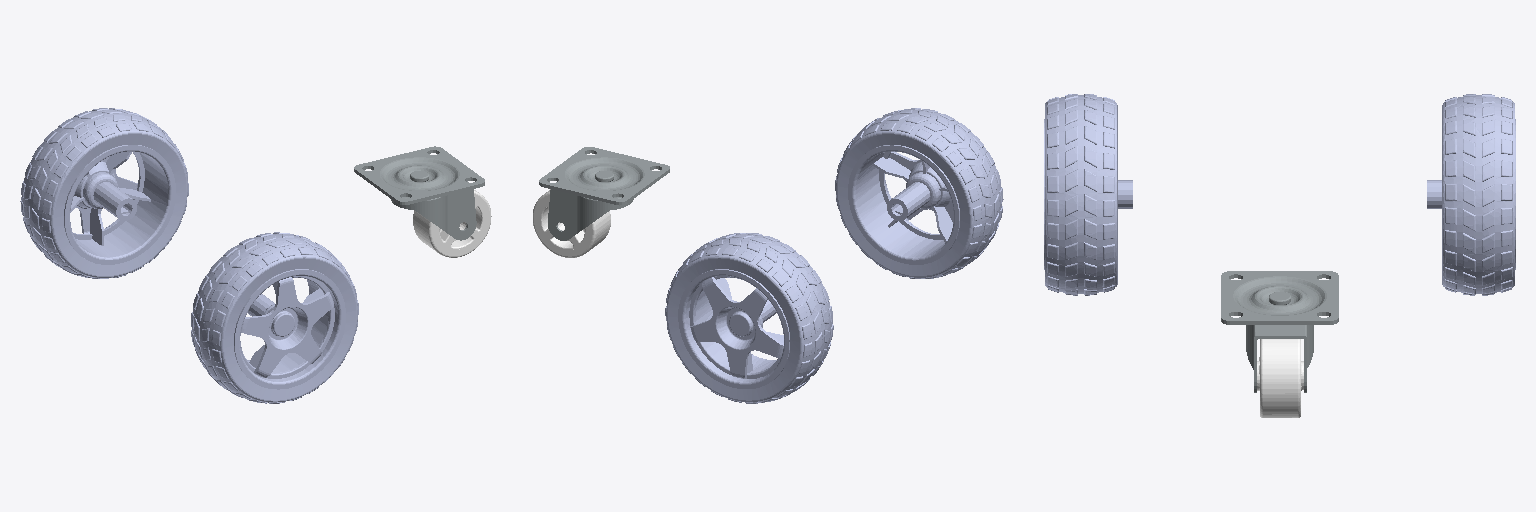
The robot description file, URDF, robot "line_robt_follower":
<?xml version="1.0" encoding="utf-8"?>
<!-- This URDF was automatically created by SolidWorks to URDF Exporter! Originally created by [author] ([email redacted]) 
     Commit Version: 1.6.0-1-g15f4949  Build Version: 1.6.7594.29634
     For more information, please see http://wiki.ros.org/sw_urdf_exporter -->
<robot  name="line_robt_follower">
  <link name="base_footprint" />

  <link
    name="chassis">
    <inertial>
      <origin
        xyz="-0.0073563 -3.9205E-16 -0.0071395"
        rpy="0 0 0" />
      <mass
        value="0.10052" />
      <inertia
        ixx="4.9396E-05"
        ixy="-1.1954E-19"
        ixz="1.3573E-21"
        iyy="0.00017682"
        iyz="1.8099E-14"
        izz="0.00022257" />
    </inertial>
    <visual>
      <origin
        xyz="0 0 0"
        rpy="0 0 0" />
      <geometry>
        <mesh
          filename="package://line_robt_follower/meshes/chassis.STL" scale="1 1 1" />
      </geometry>
      <material
        name="">
        <color
          rgba="1 1 1 0.3" />
      </material>
    </visual>
    <collision>
      <origin
        xyz="0 0 0"
        rpy="0 0 0" />
      <geometry>
        <mesh
          filename="package://line_robt_follower/meshes/chassis.STL" scale="1 1 1" />
      </geometry>
    </collision>
  </link>

  <joint name="base_joint" type="fixed">
    <origin xyz="0.0 0.0 0.0" rpy="0.0 0.0 0.0"/>
    <parent link="base_footprint"/>
    <child link="chassis"/>
    <axis xyz="0.0 0.0 0.0"/>
  </joint>

  <link
    name="left_wheel">
    <inertial>
      <origin
        xyz="2.2714E-09 -3.2445E-08 -0.0073729"
        rpy="0 0 0" />
      <mass
        value="0.021404" />
      <inertia
        ixx="8.6283E-06"
        ixy="-3.3802E-12"
        ixz="3.1432E-13"
        iyy="8.6269E-06"
        iyz="-9.8955E-12"
        izz="1.4515E-05" />
    </inertial>
    <visual>
      <origin
        xyz="0 0 0"
        rpy="0 0 0" />
      <geometry>
        <mesh
          filename="package://line_robt_follower/meshes/left_wheel.STL" scale="1 1 1" />
      </geometry>
      <material
        name="">
        <color
          rgba="0.79216 0.81961 0.93333 1" />
      </material>
    </visual>
    <collision>
      <origin
        xyz="0 0 0"
        rpy="0 0 0" />
      <geometry>
        <mesh
          filename="package://line_robt_follower/meshes/left_wheel.STL" scale="1 1 1" />
      </geometry>
    </collision>
  </link>
  <joint
    name="leftwheel"
    type="continuous">
    <origin
      xyz="-0.033259 0.07575 -0.01375"
      rpy="-1.5708 0 0" />
    <parent
      link="chassis" />
    <child
      link="left_wheel" />
    <axis
      xyz="0 0 -1" />
    <limit
      effort="10"
      velocity="10" />
    <dynamics
      damping="0.1"
      friction="0.1" />
  </joint>
  <link
    name="right_wheel">
    <inertial>
      <origin
        xyz="2.2714E-09 3.2445E-08 0.0073729"
        rpy="0 0 0" />
      <mass
        value="0.021404" />
      <inertia
        ixx="8.6283E-06"
        ixy="3.3802E-12"
        ixz="-3.1432E-13"
        iyy="8.6269E-06"
        iyz="-9.8955E-12"
        izz="1.4515E-05" />
    </inertial>
    <visual>
      <origin
        xyz="0 0 0"
        rpy="0 0 0" />
      <geometry>
        <mesh
          filename="package://line_robt_follower/meshes/right_wheel.STL" scale="1 1 1" />
      </geometry>
      <material
        name="">
        <color
          rgba="0.79216 0.81961 0.93333 1" />
      </material>
    </visual>
    <collision>
      <origin
        xyz="0 0 0"
        rpy="0 0 0" />
      <geometry>
        <mesh
          filename="package://line_robt_follower/meshes/right_wheel.STL" scale="1 1 1" />
      </geometry>
    </collision>
  </link>
  <joint
    name="rightwheel"
    type="continuous">
    <origin
      xyz="-0.033259 -0.07575 -0.01375"
      rpy="-1.5708 0 0" />
    <parent
      link="chassis" />
    <child
      link="right_wheel" />
    <axis
      xyz="0 0 1" />
    <limit
      effort="10"
      velocity="10" />
    <dynamics
      damping="0.1"
      friction="0.1" />
  </joint>
  <link
    name="castor">
    <inertial>
      <origin
        xyz="0.0017144 -7.602E-06 -0.0050145"
        rpy="0 0 0" />
      <mass
        value="0.042129" />
      <inertia
        ixx="3.9469E-06"
        ixy="-1.7072E-09"
        ixz="2.4805E-07"
        iyy="4.0905E-06"
        iyz="2.4557E-09"
        izz="7.0578E-06" />
    </inertial>
    <visual>
      <origin
        xyz="0 0 0"
        rpy="0 0 0" />
      <geometry>
        <mesh
          filename="package://line_robt_follower/meshes/castor.STL" scale="1 1 1" />
      </geometry>
      <material
        name="">
        <color
          rgba="0.63922 0.66667 0.67843 1" />
      </material>
    </visual>
    <collision>
      <origin
        xyz="0 0 0"
        rpy="0 0 0" />
      <geometry>
        <mesh
          filename="package://line_robt_follower/meshes/castor.STL" scale="1 1 1" />
      </geometry>
    </collision>
  </link>
  <joint
    name="castorjoint"
    type="continuous">
    <origin
      xyz="0.072581 0 -0.0025"
      rpy="0 0 0" />
    <parent
      link="chassis" />
    <child
      link="castor" />
    <axis
      xyz="0 0 1" />
    <limit
      effort="10"
      velocity="10" />
  </joint>
  <link
    name="castor_wheel">
    <inertial>
      <origin
        xyz="2.6204E-11 1.0408E-17 -2.7771E-09"
        rpy="0 0 0" />
      <mass
        value="0.0082874" />
      <inertia
        ixx="6.393E-07"
        ixy="2.0182E-22"
        ixz="-3.5083E-09"
        iyy="6.3927E-07"
        iyz="4.5559E-23"
        izz="1.0111E-06" />
    </inertial>
    <visual>
      <origin
        xyz="0 0 0"
        rpy="0 0 0" />
      <geometry>
        <mesh
          filename="package://line_robt_follower/meshes/castor_wheel.STL" scale="1 1 1" />
      </geometry>
      <material
        name="">
        <color
          rgba="1 1 1 1" />
      </material>
    </visual>
    <collision>
      <origin
        xyz="0 0 0"
        rpy="0 0 0" />
      <geometry>
        <mesh
          filename="package://line_robt_follower/meshes/castor_wheel.STL" scale="1 1 1" />
      </geometry>
    </collision>
  </link>
  <joint
    name="castorwheel"
    type="continuous">
    <origin
      xyz="0.015014 0.00014167 -0.02296"
      rpy="-1.5708 0 0" />
    <parent
      link="castor" />
    <child
      link="castor_wheel" />
    <axis
      xyz="-0.0094352 0 0.99996" />
    <limit
      effort="10"
      velocity="10" />
    <dynamics
      damping="0.1"
      friction="0.1" />
  </joint>
</robot>

--- What the picture shows (computed from the rendered views, not written in the file) ---
The picture shows the robot from 3 angles, left to right: view 1: azimuth 30°, elevation 25°; view 2: azimuth 150°, elevation 25°; view 3: azimuth 270°, elevation 25°; orthographic projection.
Model line_robt_follower with 6 links and 5 joints (4 continuous, 1 fixed), rooted at base_footprint, posed every joint at zero.
Links seen in each view (by area): view 1: right_wheel, left_wheel, castor, castor_wheel; view 2: left_wheel, right_wheel, castor, castor_wheel; view 3: left_wheel, right_wheel, castor, castor_wheel.
Boxes of the visible links, box(x1,y1,x2,y2) form: right_wheel: box(191, 232, 358, 403); left_wheel: box(20, 108, 188, 278); castor: box(354, 146, 484, 240); castor_wheel: box(413, 190, 491, 257); left_wheel: box(665, 233, 833, 403); right_wheel: box(835, 108, 1003, 278); castor: box(539, 147, 669, 240); castor_wheel: box(533, 189, 610, 257); left_wheel: box(1427, 94, 1515, 295); right_wheel: box(1044, 94, 1132, 295); castor: box(1221, 271, 1338, 392); castor_wheel: box(1257, 339, 1303, 417).
Bounding box of the posed robot: 0.1699 × 0.1605 × 0.0689 m (x, y, z).
Meshes: 5 distinct files referenced, 4 mesh visuals loaded (4 binary STL); not drawn: 1 (reference not matched to a file when rendering).